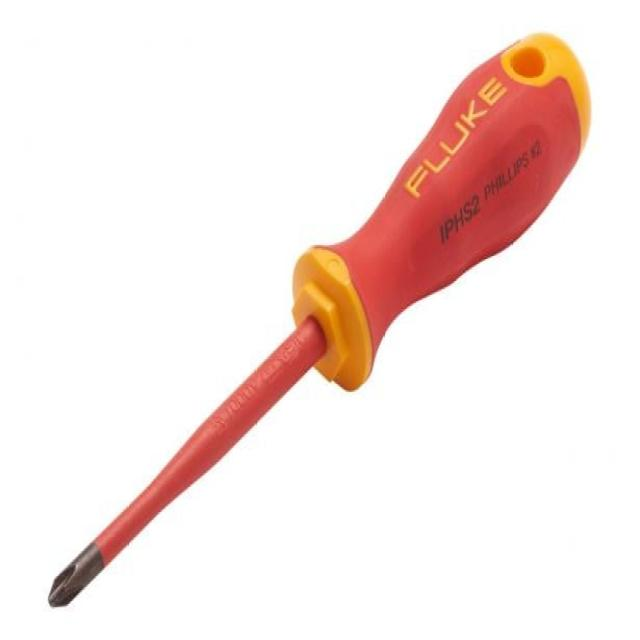Screwdriver: (49, 34, 590, 606)
